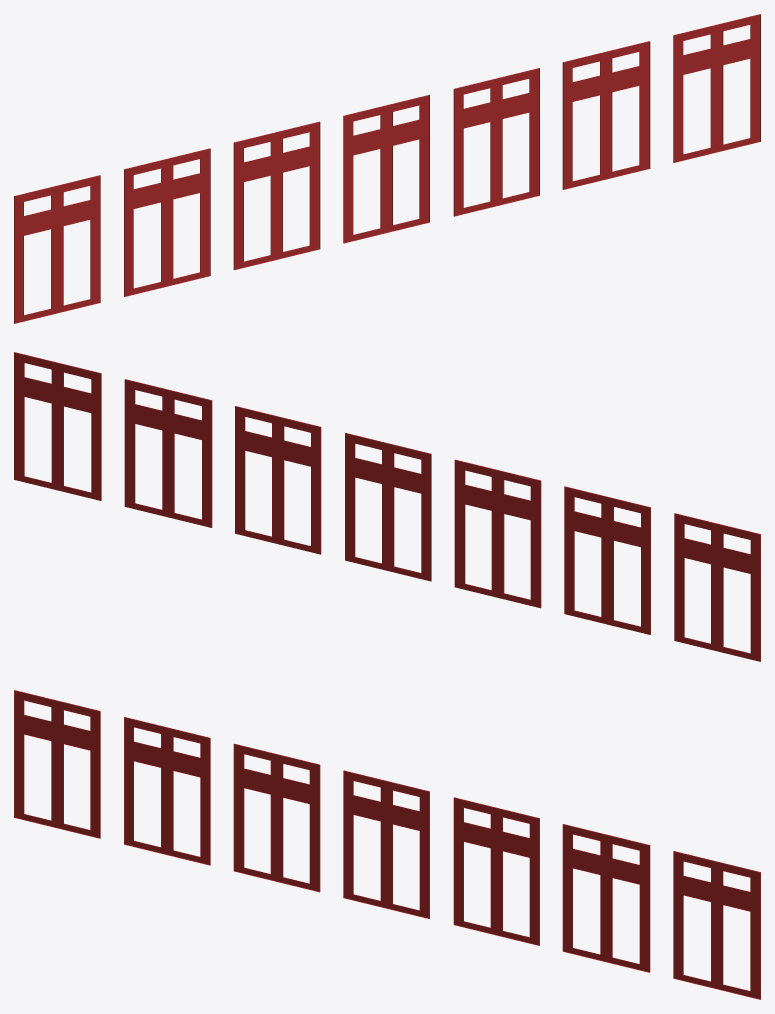
File: SM_Window_Shadow.fbx
3 renders of one model, top to bottom at view 1: azimuth 30°, elevation 25°; view 2: azimuth 150°, elevation 25°; view 3: azimuth 330°, elevation 25°, orthographic.
Parts seen in each view (by area): view 1: SM_Window_Shadow; view 2: SM_Window_Shadow; view 3: SM_Window_Shadow.
Boxes of the visible parts, bbox=[...] form: SM_Window_Shadow: bbox=[14, 14, 760, 323]; SM_Window_Shadow: bbox=[14, 352, 760, 661]; SM_Window_Shadow: bbox=[14, 690, 760, 999].
Size of the model in its own units: 1867 by 304 by 2.67.
